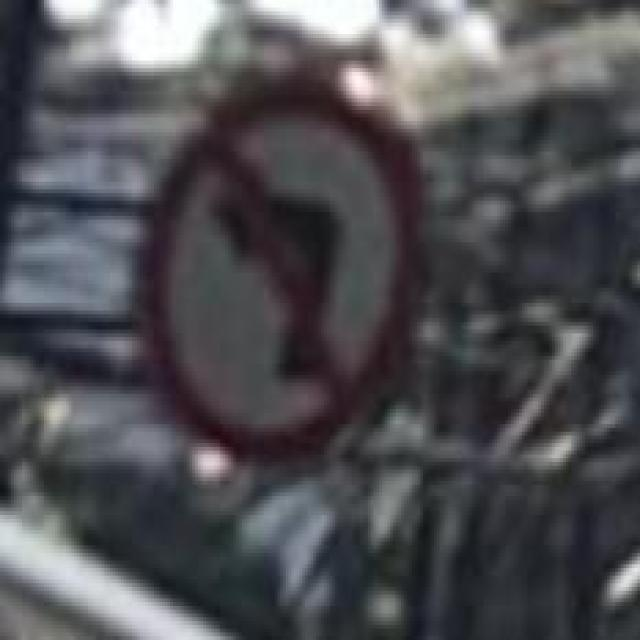traffic sign: (149, 87, 418, 443)
